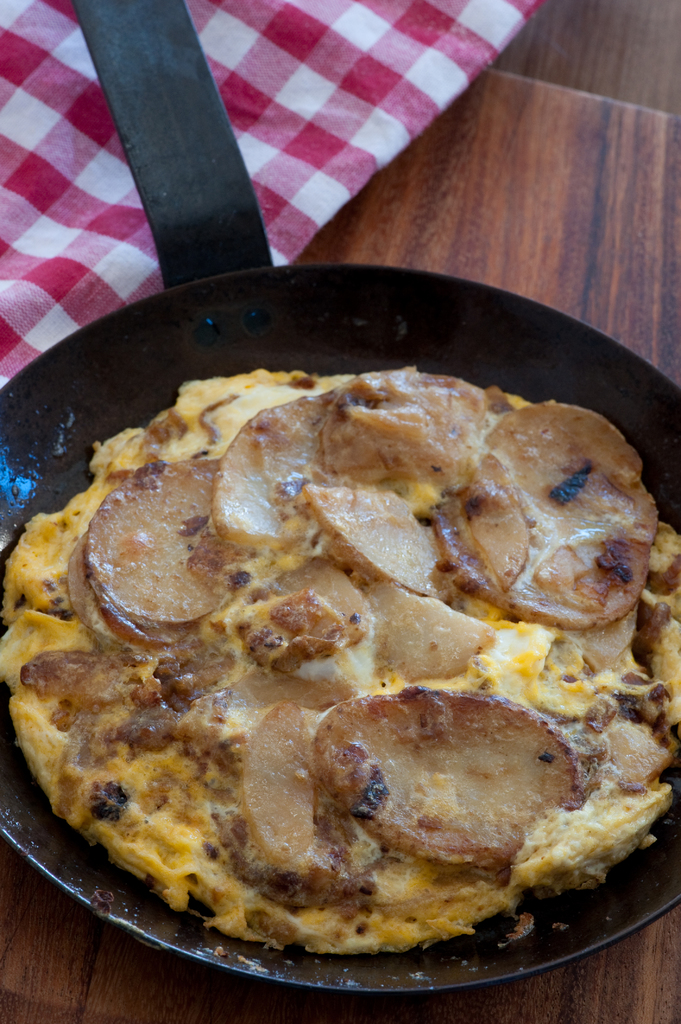Pizza: (0, 362, 680, 963)
